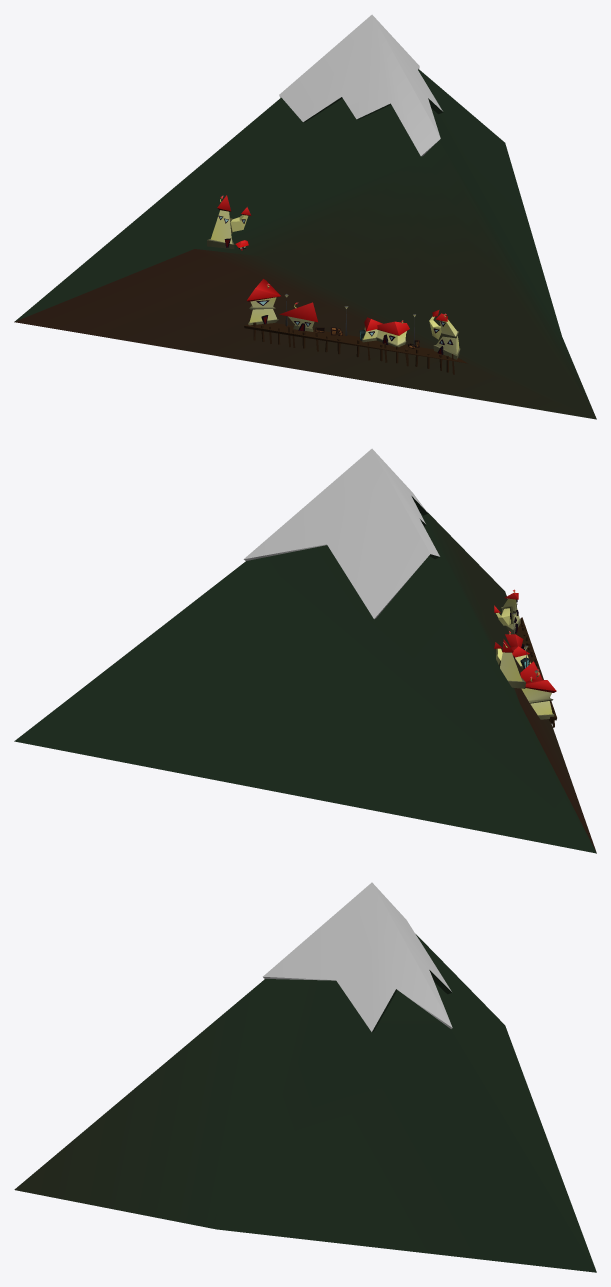
The model's file is c_piertown.fbx.
The picture shows the model from 3 angles, top to bottom: view 1: azimuth 30°, elevation 25°; view 2: azimuth 150°, elevation 25°; view 3: azimuth 270°, elevation 25°; orthographic projection.
Visible parts, largest first — view 1: c_piertown; view 2: c_piertown; view 3: c_piertown.
Part boxes in pixels (x1,y1,x2,y2): c_piertown: (14,14,596,419); c_piertown: (14,448,596,853); c_piertown: (14,882,596,1272).
Bounding box in the file's own units: 157 × 81.73 × 148.
